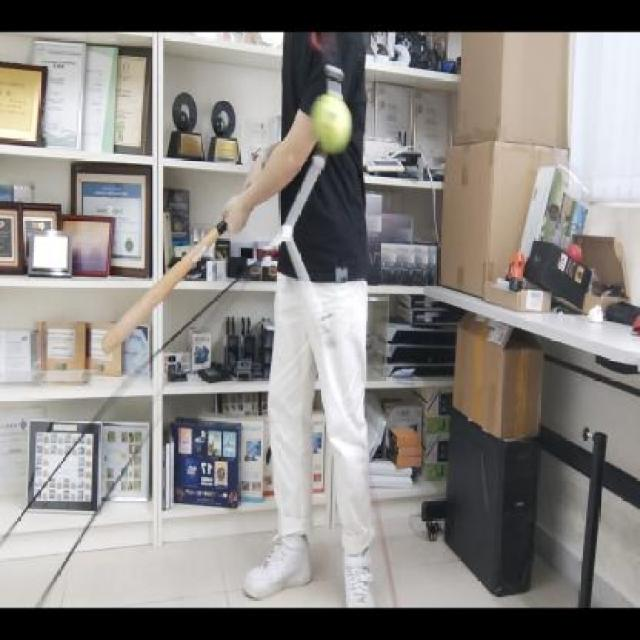baseball: (308, 90, 355, 158)
